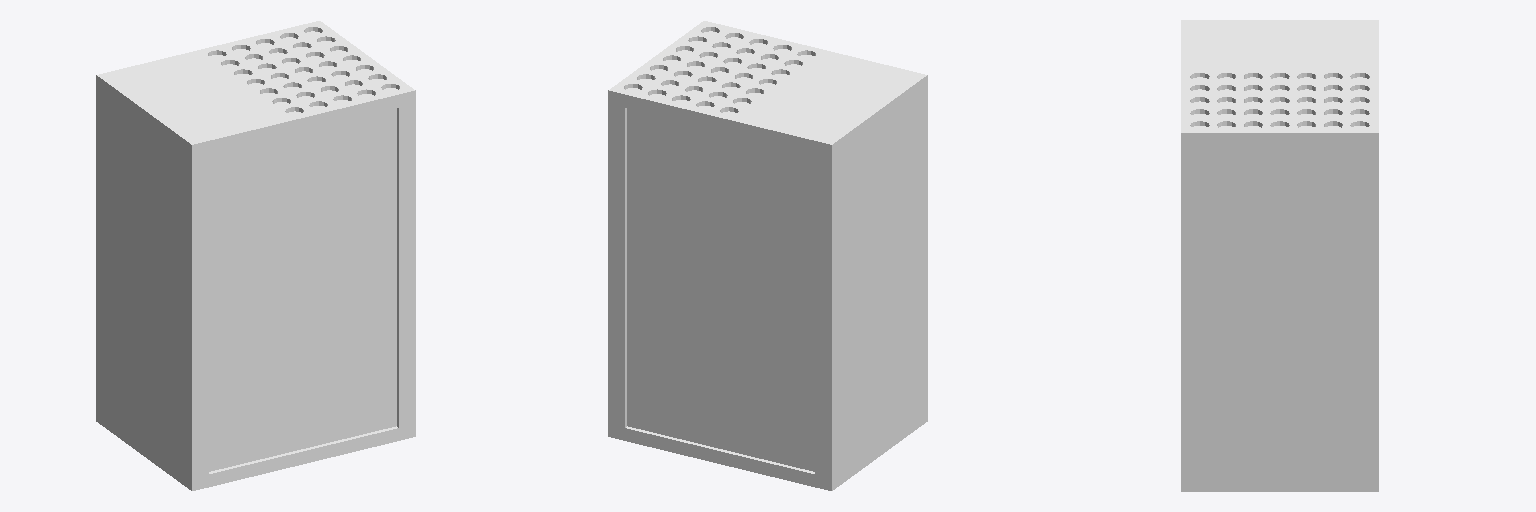
URDF robot description (agv_base):
<?xml version="1.0" encoding="utf-8"?>
<!-- This URDF was automatically created by SolidWorks to URDF Exporter! Originally created by [author] ([email redacted]) 
     Commit Version: 1.6.0-4-g7f85cfe  Build Version: 1.6.7995.38578
     For more information, please see http://wiki.ros.org/sw_urdf_exporter -->
<robot
  name="agv_base">
  <link
    name="base_link">
    <inertial>
      <origin
        xyz="0.288572714004632 -0.408026864209329 0.275324593141698"
        rpy="0 0 0" />
      <mass
        value="36.7198354948557" />
      <inertia
        ixx="0.604677543073114"
        ixy="4.28405194276803E-06"
        ixz="8.63548264751912E-09"
        iyy="1.0089231615248"
        iyz="5.03936500234873E-10"
        izz="1.45538768716571" />
    </inertial>
    <visual>
      <origin
        xyz="0 0 0"
        rpy="0 0 0" />
      <geometry>
        <mesh
          filename="package://agv_base/meshes/base_link.STL" />
      </geometry>
      <material
        name="">
        <color
          rgba="1 1 1 1" />
      </material>
    </visual>
    <collision>
      <origin
        xyz="0 0 0"
        rpy="0 0 0" />
      <geometry>
        <mesh
          filename="package://agv_base/meshes/base_link.STL" />
      </geometry>
    </collision>
  </link>
  <link
    name="base">
    <inertial>
      <origin
        xyz="1.1102E-16 0.60105 -0.00030818"
        rpy="0 0 0" />
      <mass
        value="165.55" />
      <inertia
        ixx="12.907"
        ixy="5.6512E-16"
        ixz="4.9588E-16"
        iyy="6.11"
        iyz="-0.020206"
        izz="10.876" />
    </inertial>
    <visual>
      <origin
        xyz="0 0 0"
        rpy="0 0 0" />
      <geometry>
        <mesh
          filename="package://agv_base/meshes/base.STL" />
      </geometry>
      <material
        name="">
        <color
          rgba="1 1 1 1" />
      </material>
    </visual>
    <collision>
      <origin
        xyz="0 0 0"
        rpy="0 0 0" />
      <geometry>
        <mesh
          filename="package://agv_base/meshes/base.STL" />
      </geometry>
    </collision>
  </link>
  <joint
    name="joint1"
    type="fixed">
    <origin
      xyz="0.28857 -0.40803 1.3574"
      rpy="-1.5708 0 -1.5708" />
    <parent
      link="base_link" />
    <child
      link="base" />
    <axis
      xyz="0 0 0" />
  </joint>
</robot>

--- What the picture shows (computed from the rendered views, not written in the file) ---
3 views of the same robot in one strip: view 1: azimuth 30°, elevation 25°; view 2: azimuth 150°, elevation 25°; view 3: azimuth 270°, elevation 25° (orthographic).
Model agv_base with 2 links and 1 joints (1 fixed), rooted at base_link, posed every joint at zero.
Visible links, largest first — view 1: base; view 2: base; view 3: base.
Link boxes in pixels (left/top/right/bottom): base: left=96, top=21, right=415, bottom=490; base: left=608, top=21, right=927, bottom=490; base: left=1181, top=20, right=1378, bottom=491.
Bounding box of the posed robot: 0.54 × 0.4 × 0.8 m (x, y, z).
Meshes: 2 distinct files referenced, 1 mesh visuals loaded (1 binary STL); not drawn: 1 (reference not matched to a file when rendering).